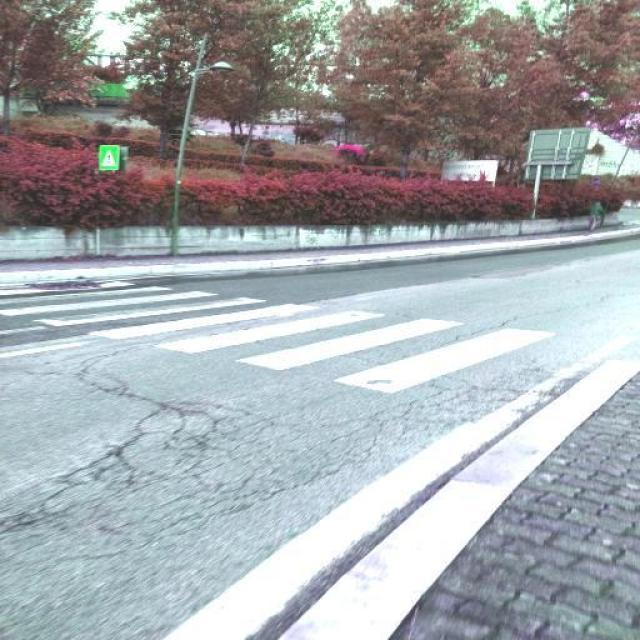crosswalk: (2, 278, 567, 402)
